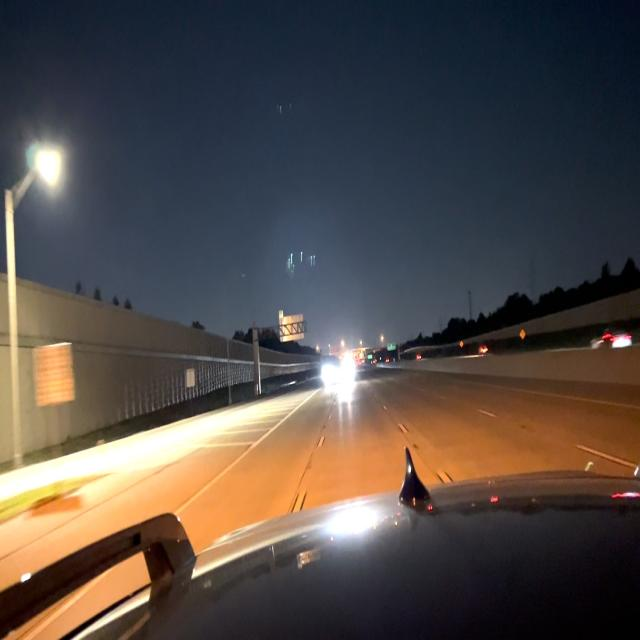back-of-sign: (33, 342, 76, 405), (280, 310, 304, 341), (187, 369, 194, 389)
